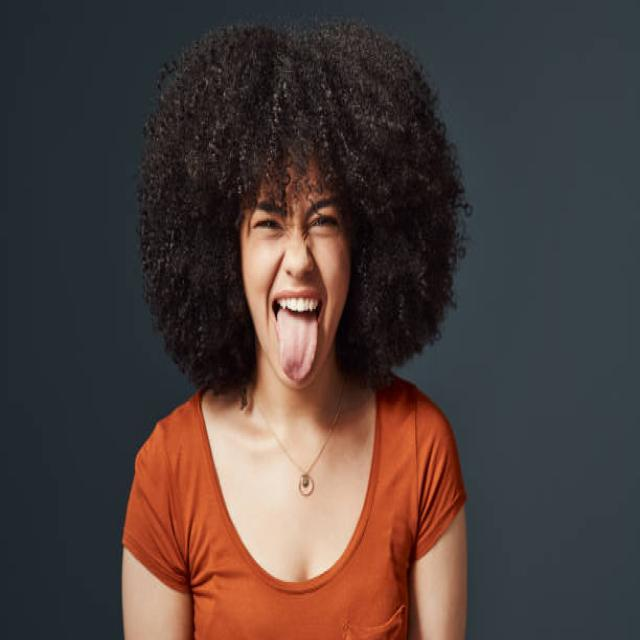tongue: (271, 311, 325, 384)
